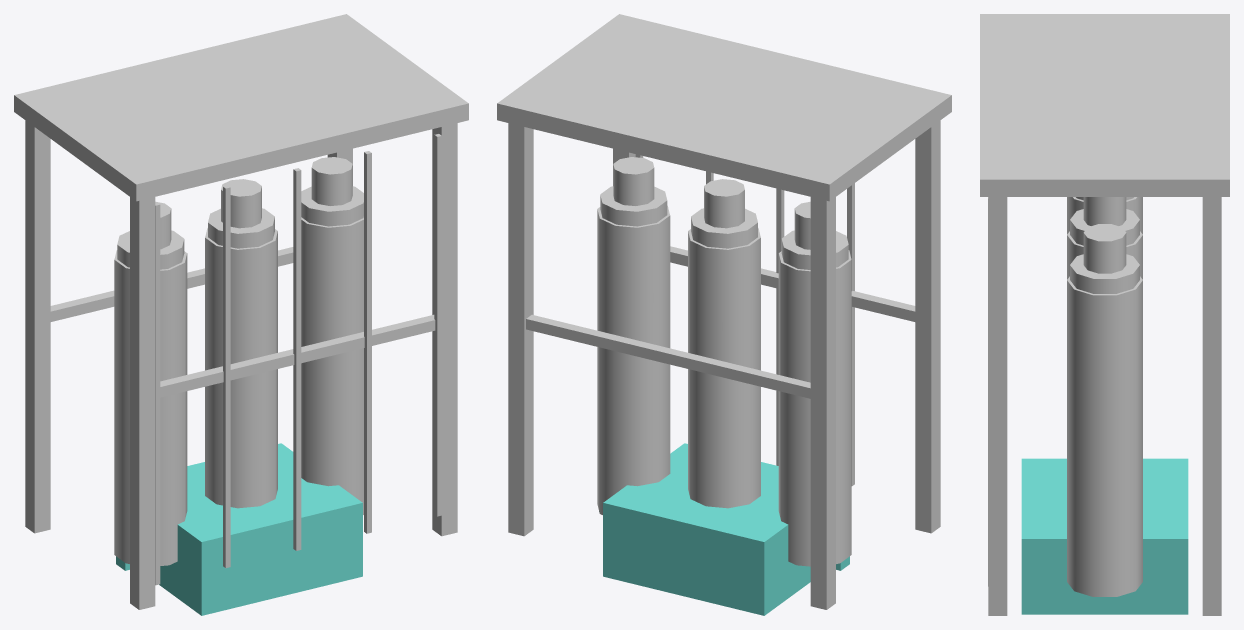
The picture shows the model from 3 angles, left to right: view 1: azimuth 30°, elevation 25°; view 2: azimuth 150°, elevation 25°; view 3: azimuth 270°, elevation 25°; orthographic projection. The views are drawn at different scales.
Visible parts, largest first — view 1: part005, visualCarriage, part016, part019, part013, part001, part002, part004, part012, part008, part010, part007 (+8 smaller); view 2: part005, visualCarriage, part019, part016, part013, part001, part003, part002, part011, part021, part018, part020 (+6 smaller); view 3: part005, part019, visualCarriage, part003, part004, part021, part020, part018, part017, part016, part013, part010.
Part boxes in pixels (<box>): part005: <box>14,14,468,201</box>; visualCarriage: <box>159,443,362,615</box>; part016: <box>205,228,277,508</box>; part019: <box>301,217,363,514</box>; part013: <box>114,250,187,565</box>; part001: <box>25,120,50,533</box>; part002: <box>130,197,155,609</box>; part004: <box>432,123,457,536</box>; part012: <box>160,314,435,397</box>; part008: <box>293,168,301,550</box>; part010: <box>434,134,442,516</box>; part007: <box>223,185,230,567</box>; part005: <box>497,14,951,201</box>; visualCarriage: <box>603,443,810,615</box>; part019: <box>597,205,670,514</box>; part016: <box>688,228,760,508</box>; part013: <box>778,250,851,566</box>; part001: <box>810,197,835,609</box>; part003: <box>508,123,533,536</box>; part002: <box>915,120,940,533</box>; part011: <box>526,314,810,398</box>; part021: <box>613,157,654,205</box>; part018: <box>704,179,744,228</box>; part020: <box>600,186,667,226</box>; part005: <box>980,14,1229,196</box>; part019: <box>1067,276,1142,596</box>; visualCarriage: <box>1021,458,1188,614</box>; part003: <box>1202,197,1221,615</box>; part004: <box>988,197,1007,615</box>; part021: <box>1083,224,1126,273</box>; part020: <box>1070,254,1139,293</box>; part018: <box>1083,197,1126,225</box>; part017: <box>1070,209,1139,245</box>; part016: <box>1067,231,1142,279</box>; part013: <box>1067,197,1142,234</box>; part010: <box>988,197,988,586</box>.
Size of the model in its own units: 1.65 by 2.22 by 1.05.
